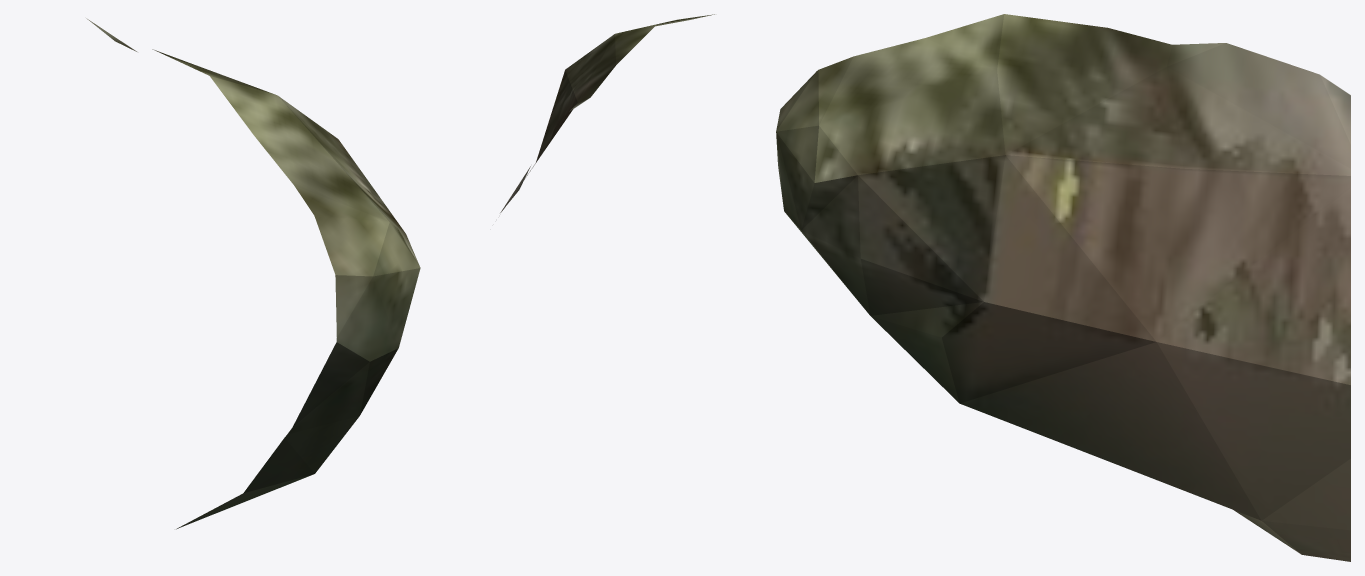
The picture shows the model from 3 angles, left to right: view 1: azimuth 30°, elevation 25°; view 2: azimuth 150°, elevation 25°; view 3: azimuth 270°, elevation 25°; orthographic projection. The views are drawn at different scales.
Bounding box in the file's own units: 0.2839 × 1.15 × 1.1.
1 material, 1 textured.
